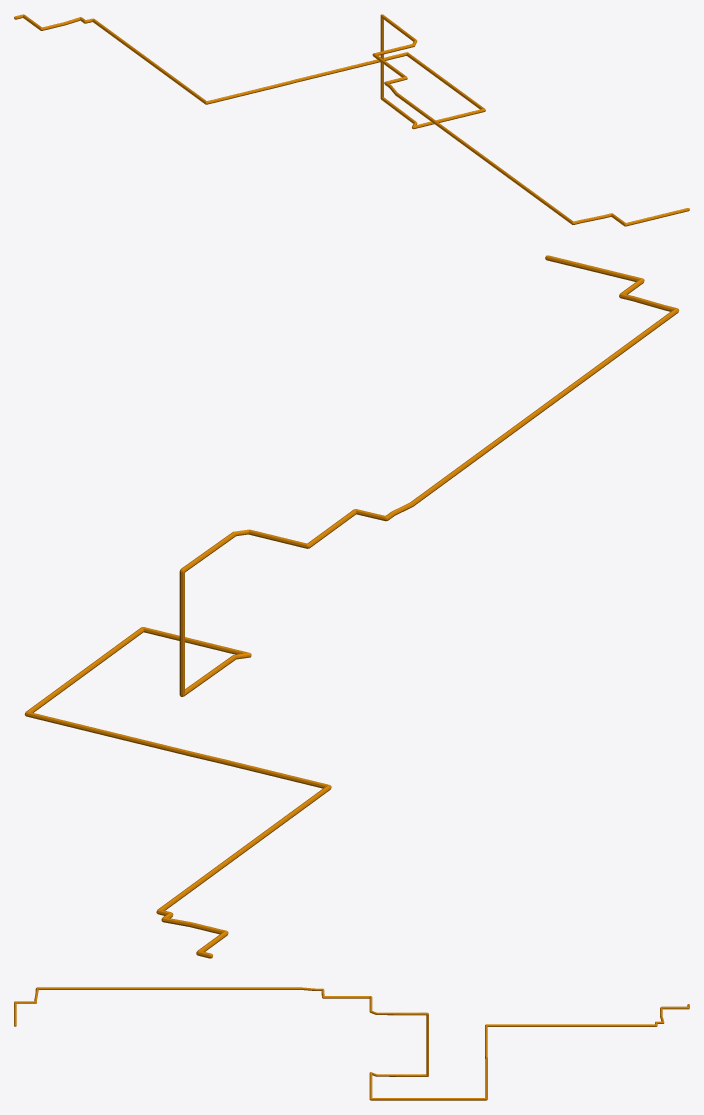
3 views of the same model, one above another, from view 1: azimuth 30°, elevation 25°; view 2: azimuth 150°, elevation 25°; view 3: azimuth 270°, elevation 25° (orthographic). The views are drawn at different scales.
Bounding box in the file's own units: 1655 × 520 × 4969.
